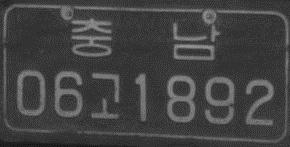0: (15, 69, 46, 117)
1: (127, 71, 155, 122)
2: (244, 78, 275, 126)
6: (53, 70, 83, 118)
8: (166, 74, 196, 125)
9: (203, 75, 235, 126)
고: (89, 71, 121, 120)
충남_D: (70, 17, 220, 61)
